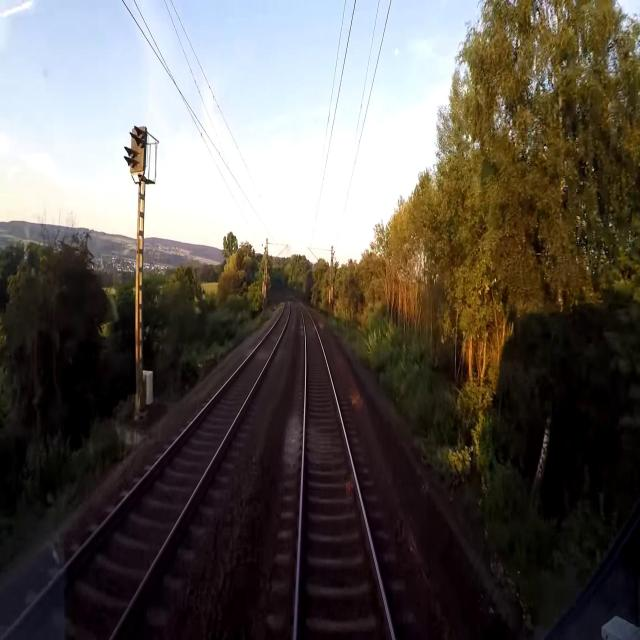rail-track: (8, 302, 288, 639), (297, 305, 391, 639)
